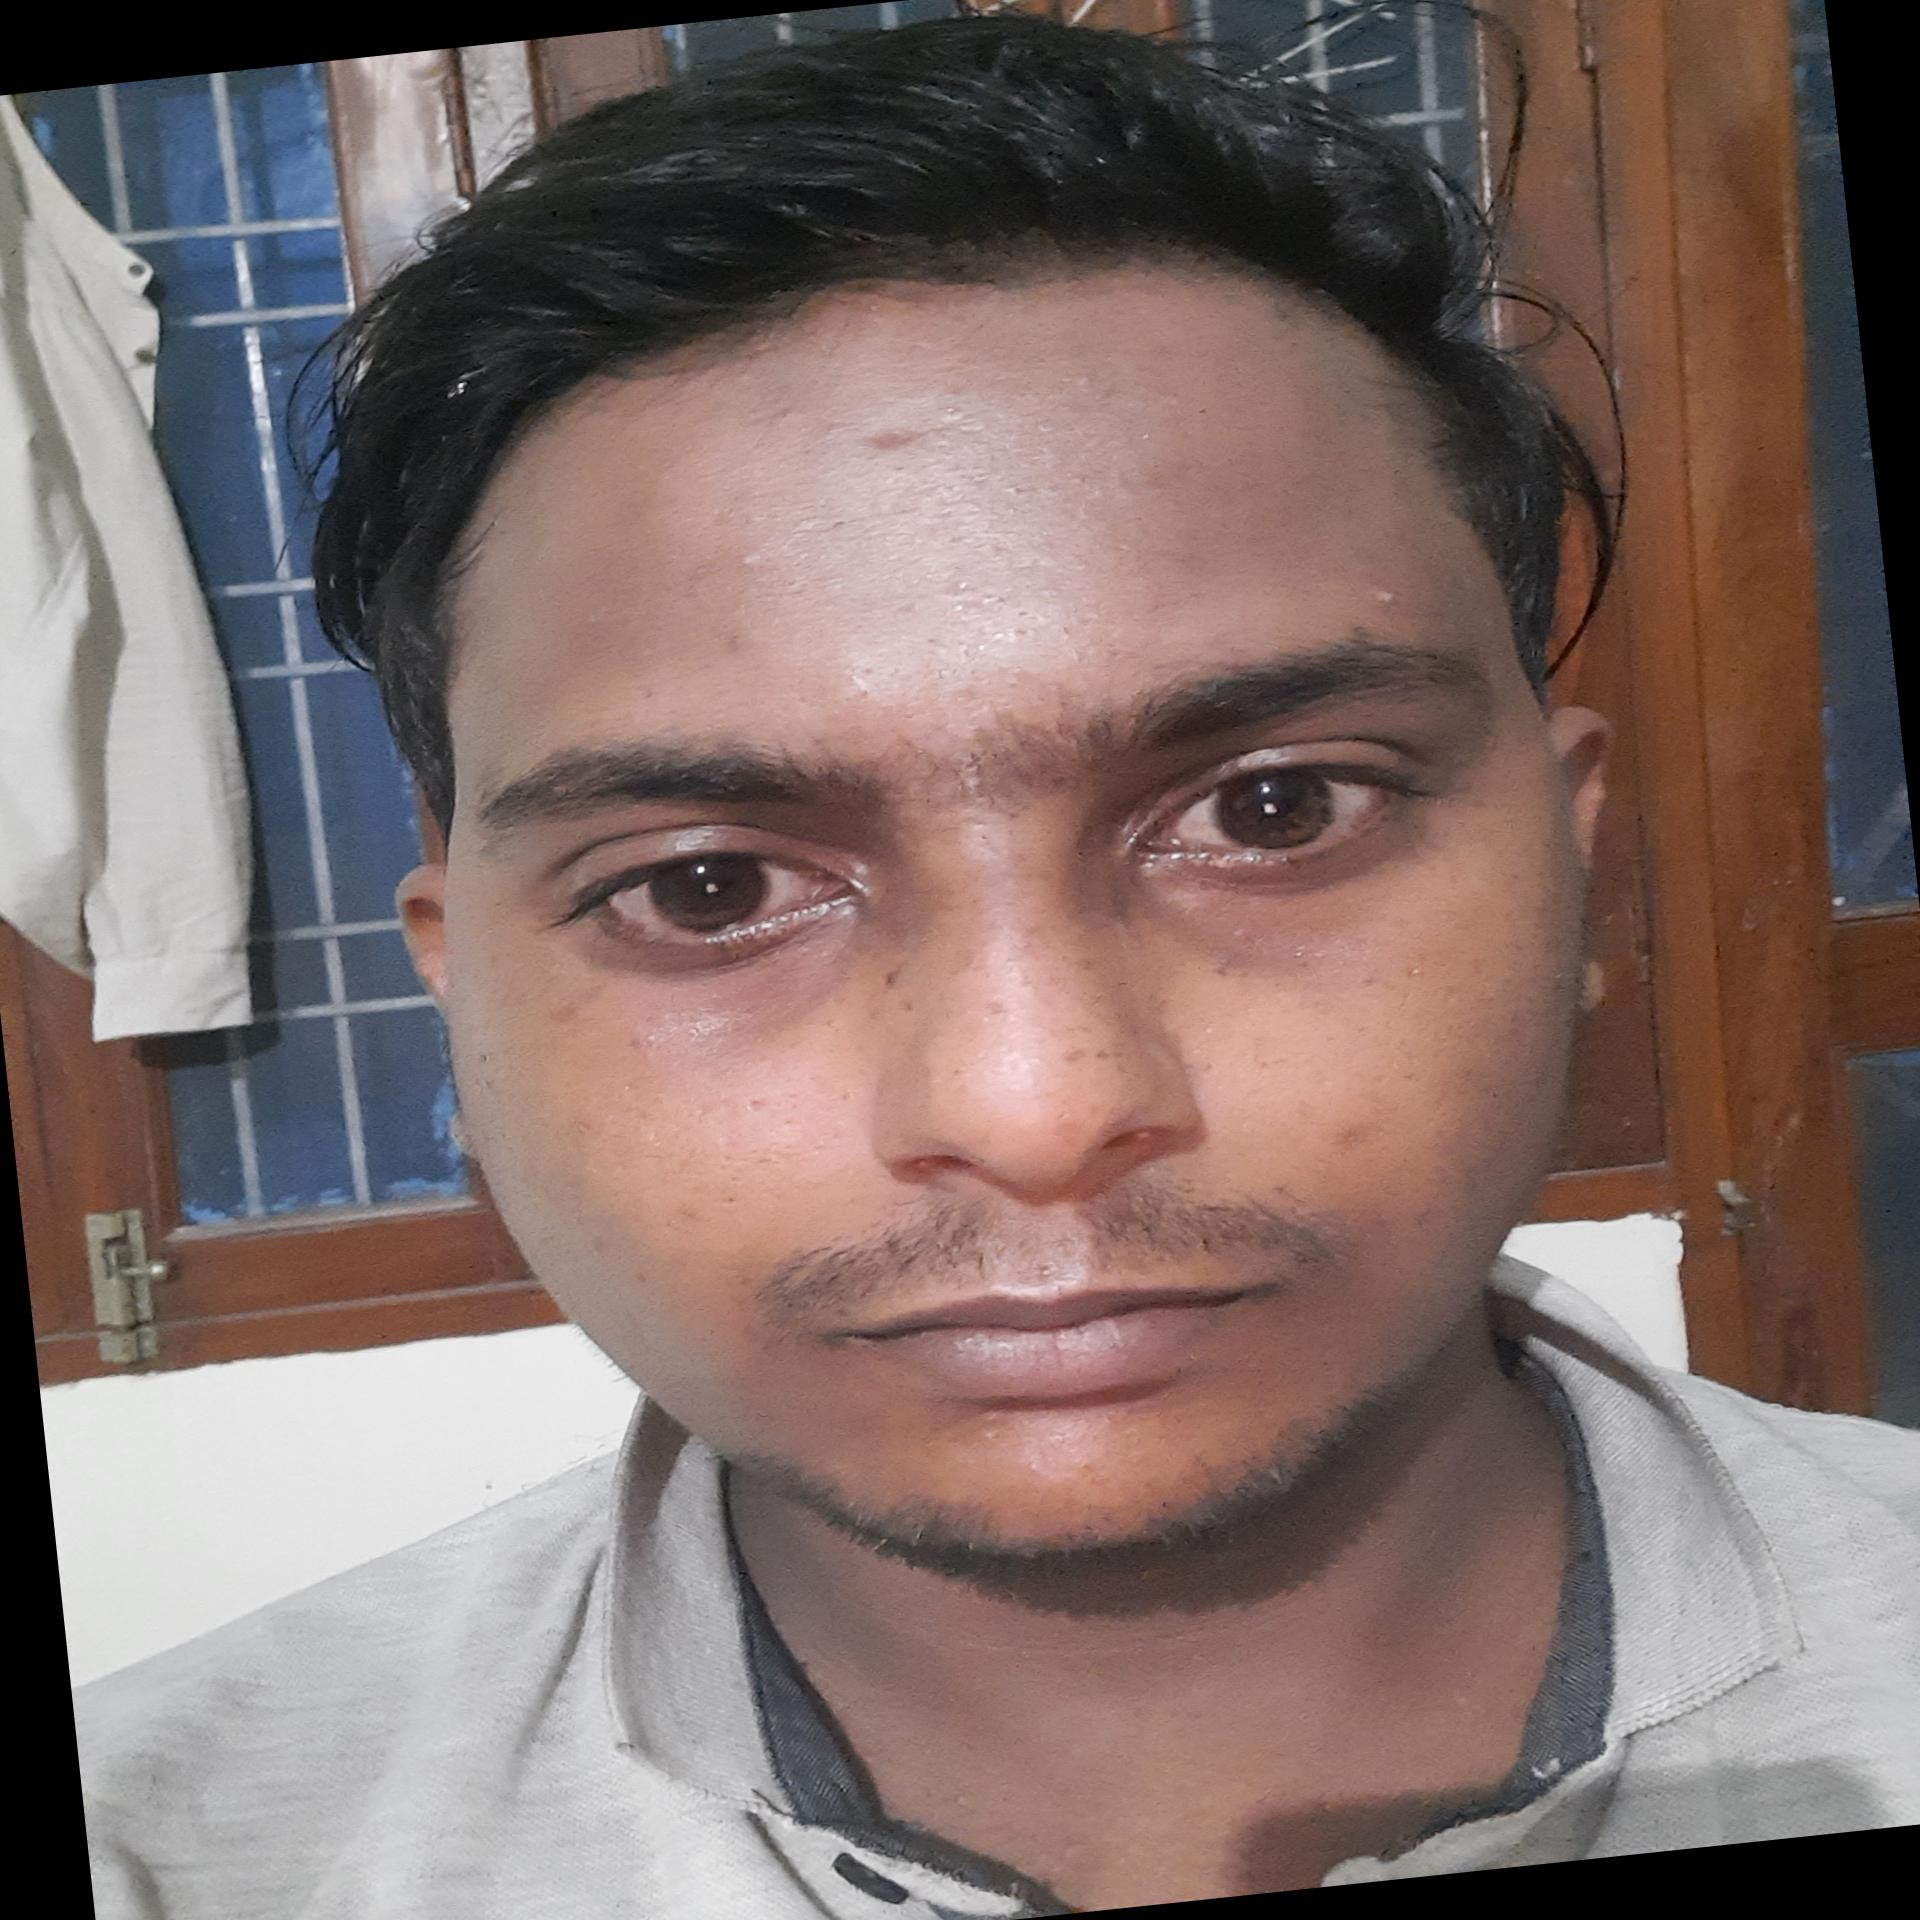Acne: (1320, 1109, 1394, 1164), (1122, 380, 1190, 422), (855, 418, 925, 459), (1034, 371, 1104, 411), (1354, 577, 1412, 619), (719, 617, 763, 659), (934, 577, 985, 612), (724, 538, 772, 570)
Englarged Pores: (631, 1102, 853, 1238), (1037, 1029, 1125, 1088), (986, 600, 1069, 651)
